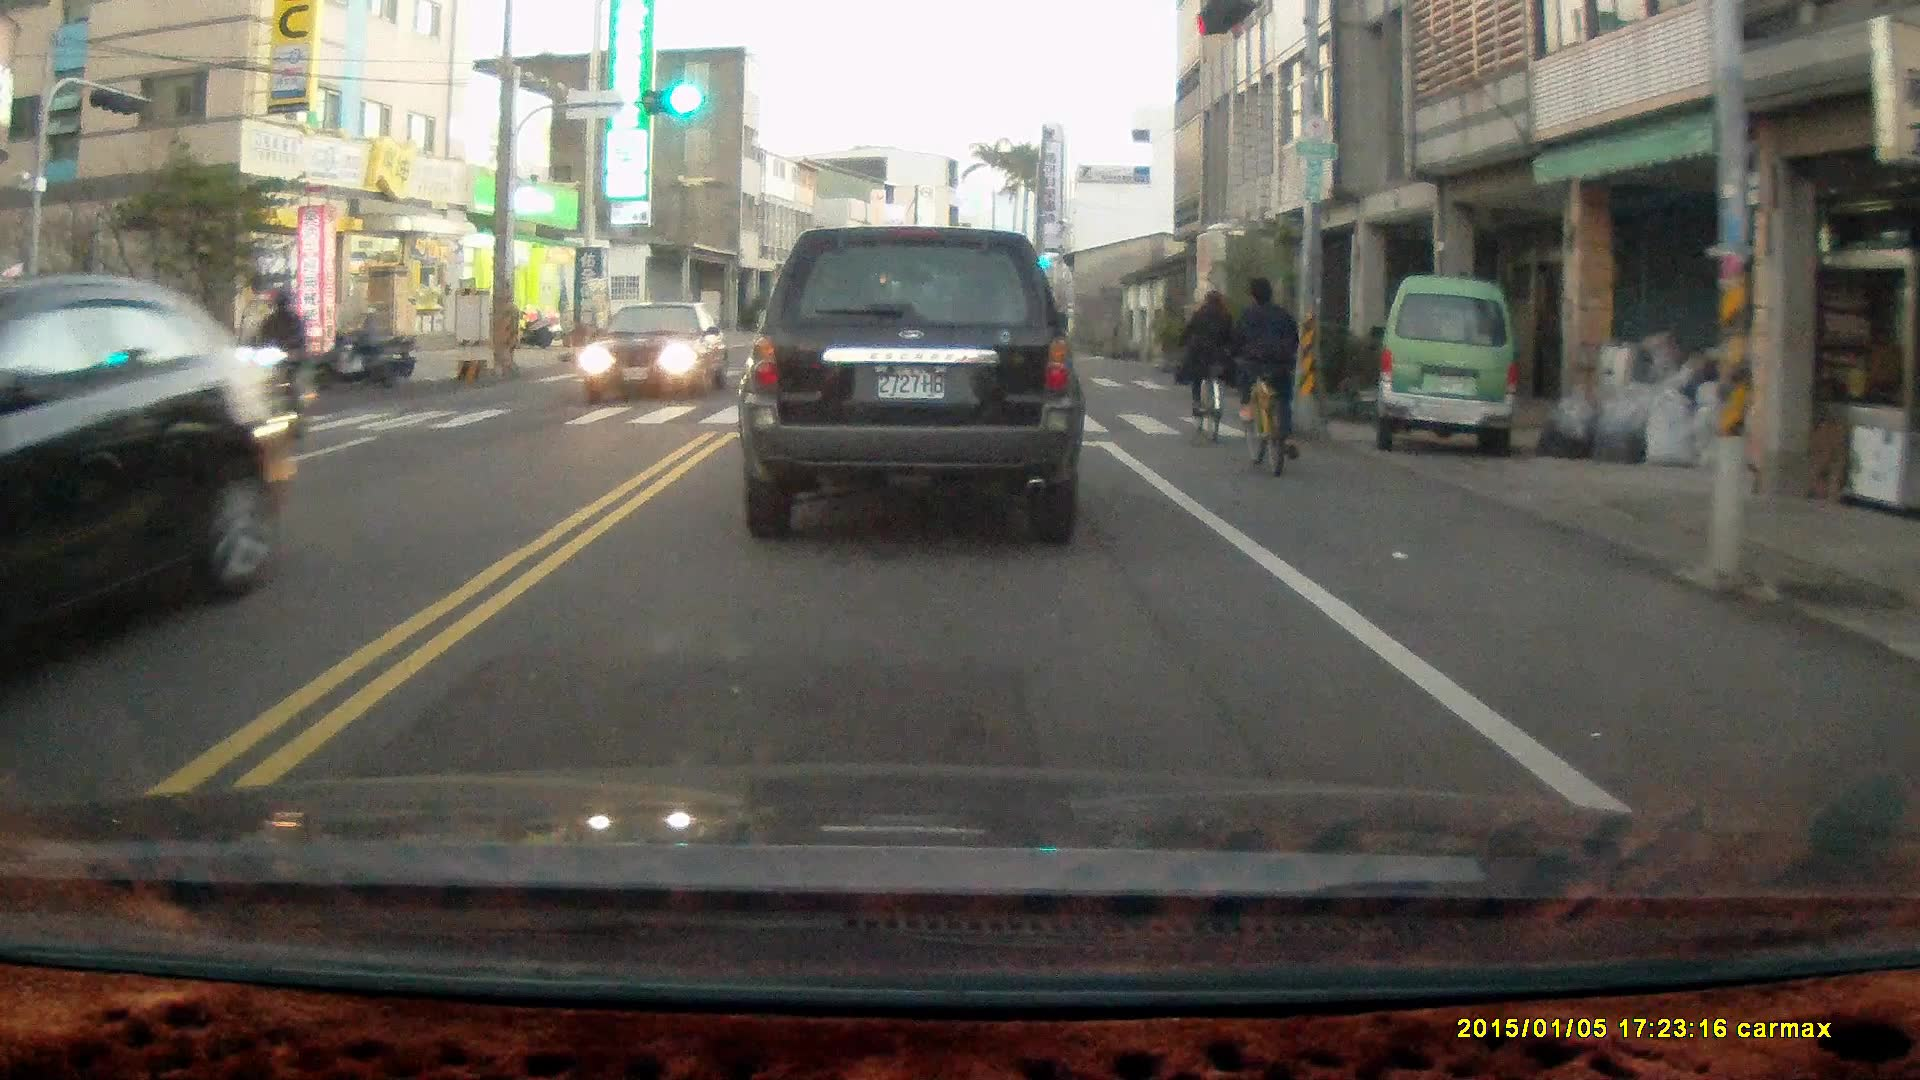rider: (1221, 274, 1303, 480), (226, 288, 316, 455), (1174, 290, 1234, 447), (315, 308, 398, 393)
vehicle: (1, 272, 298, 689), (752, 224, 1088, 533), (1373, 277, 1521, 464), (579, 302, 734, 408)
